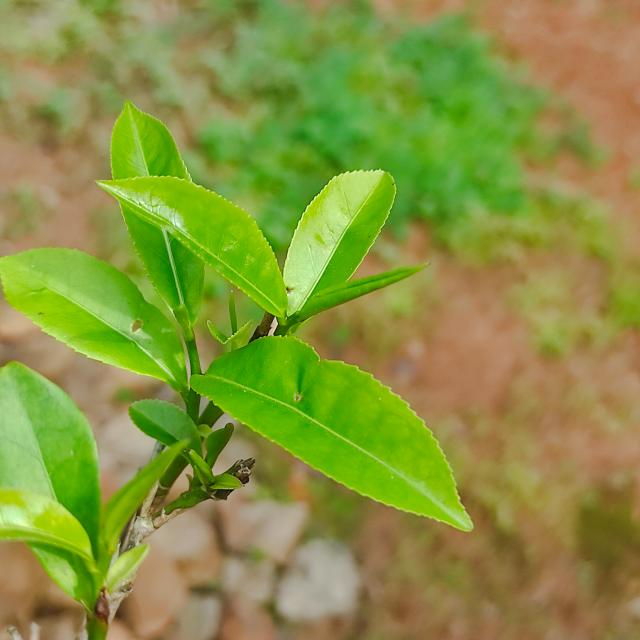unopened_leaf: (86, 435, 204, 593), (286, 255, 435, 337)
